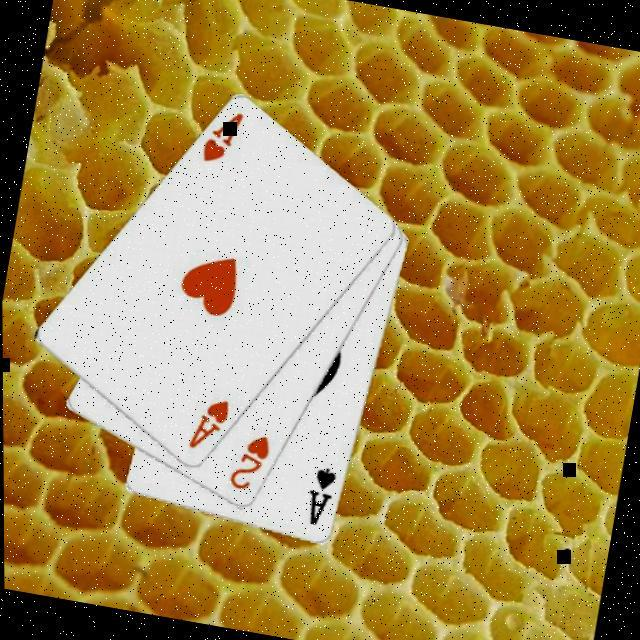2H: (224, 427, 275, 497)
AH: (197, 104, 248, 170), (184, 391, 234, 457)
AS: (300, 462, 341, 530)
